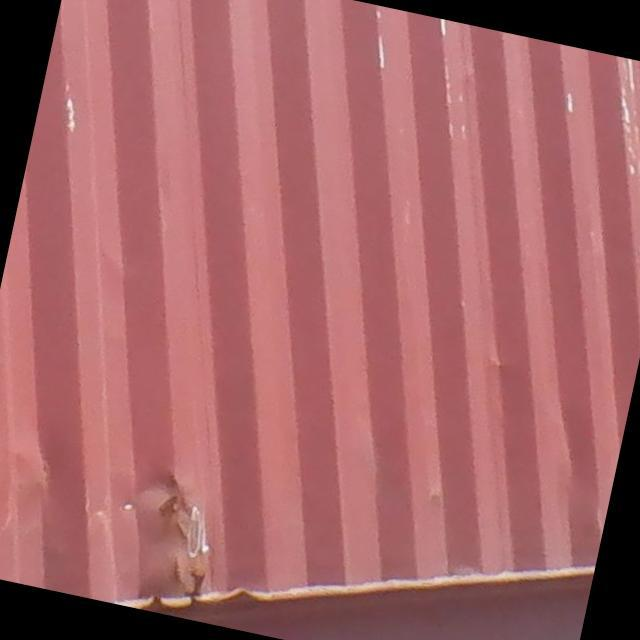dent: (76, 444, 255, 616)
